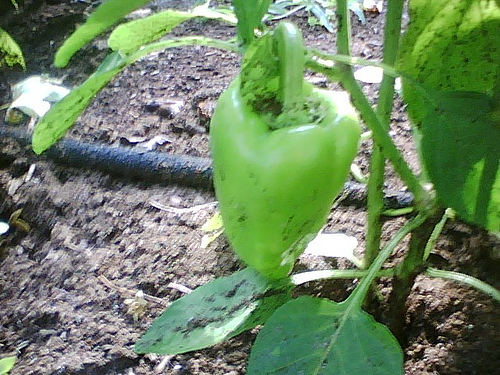capsicum: (211, 20, 360, 283)
